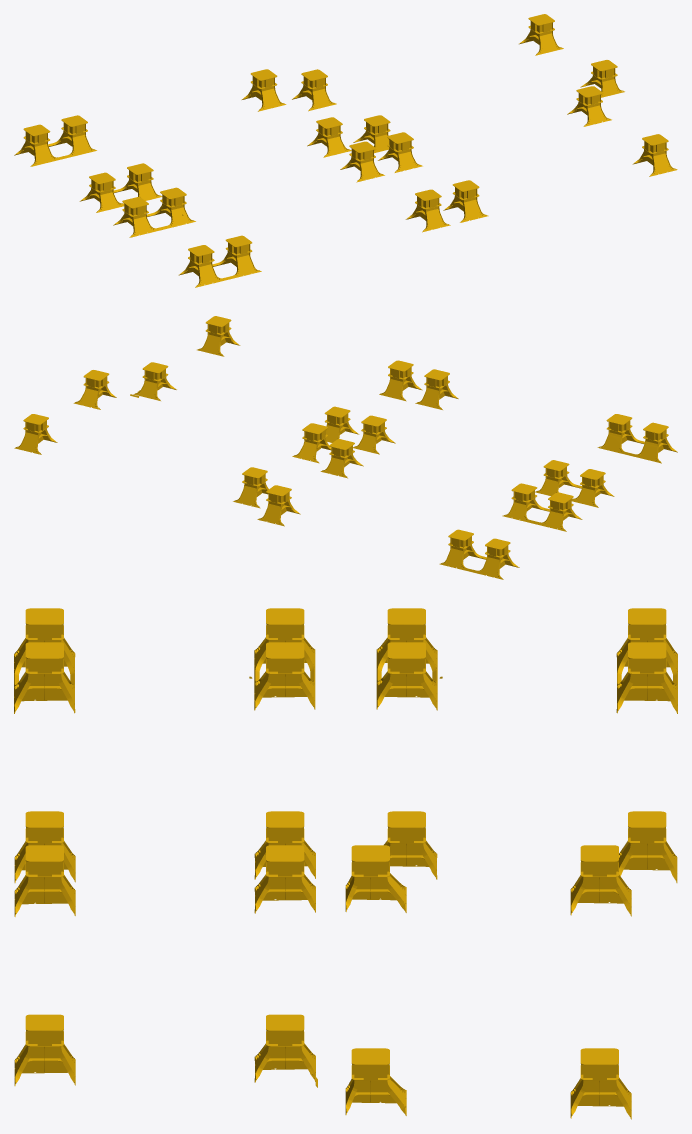
The model's file is Supports_plateformes.fbx.
3 renders of one model, top to bottom at view 1: azimuth 30°, elevation 25°; view 2: azimuth 150°, elevation 25°; view 3: azimuth 270°, elevation 25°, orthographic. The views are drawn at different scales.
Visible parts, largest first — view 1: Supports_ST_01, Supports_ST_03, Supports_ST_04, Supports_ST_02; view 2: Supports_ST_01, Supports_ST_03, Supports_ST_04, Supports_ST_02; view 3: Supports_ST_01, Supports_ST_03, Supports_ST_02, Supports_ST_04.
Part boxes in pixels (x1,y1,x2,y2): Supports_ST_01: [292, 14, 677, 222]; Supports_ST_03: [48, 115, 261, 279]; Supports_ST_04: [14, 124, 228, 287]; Supports_ST_02: [241, 69, 450, 232]; Supports_ST_01: [14, 316, 422, 508]; Supports_ST_03: [439, 414, 644, 571]; Supports_ST_04: [471, 422, 677, 579]; Supports_ST_02: [257, 369, 458, 526]; Supports_ST_01: [14, 845, 631, 1119]; Supports_ST_03: [14, 642, 677, 713]; Supports_ST_02: [14, 811, 677, 882]; Supports_ST_04: [14, 608, 677, 683].
Bounding box in the file's own units: 6881 × 351 × 4146.
